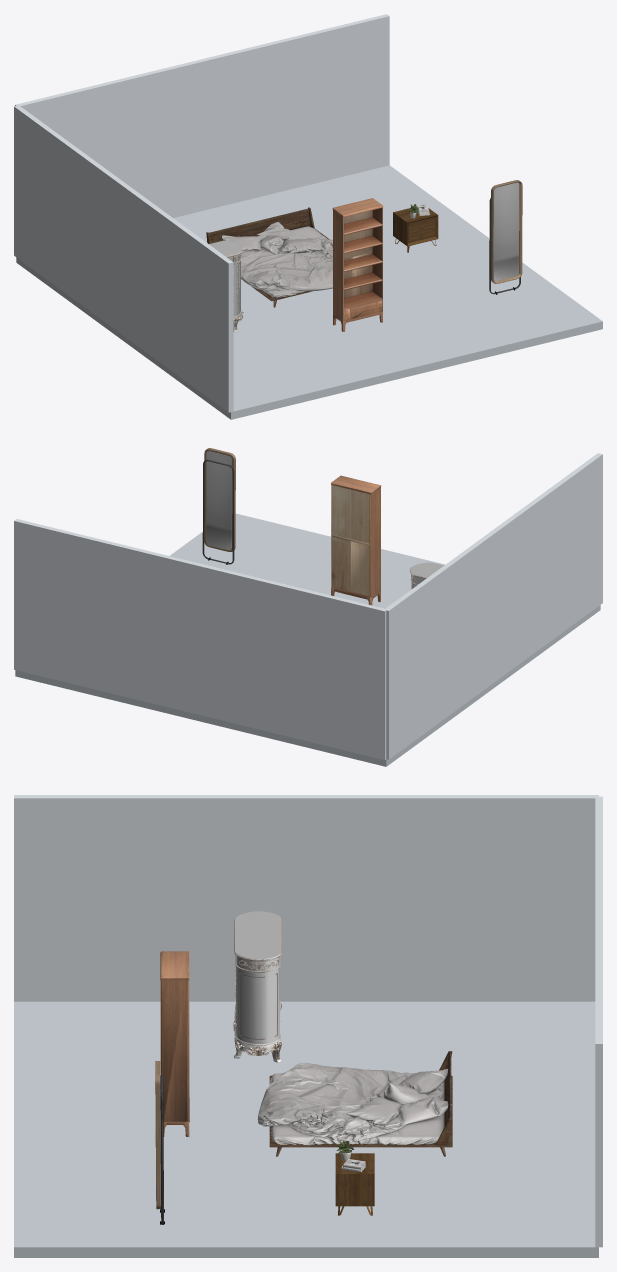
The model's file is stage3.glb.
3 renders of one model, top to bottom at view 1: azimuth 30°, elevation 25°; view 2: azimuth 150°, elevation 25°; view 3: azimuth 270°, elevation 25°, orthographic. The views are drawn at different scales.
Visible parts, largest first — view 1: wall_back, Floor, wall_left, raw_model, raw_model.003, raw_model.004, raw_model.001, raw_model.002; view 2: wall_back, wall_left, Floor, raw_model.003, raw_model.004, raw_model.002; view 3: Floor, wall_left, raw_model, raw_model.002, raw_model.003, wall_back, raw_model.001, raw_model.004.
Boxes of the visible parts, bbox=[...] form: wall_back: bbox=[15, 14, 389, 217]; Floor: bbox=[16, 165, 602, 419]; wall_left: bbox=[14, 106, 233, 412]; raw_model: bbox=[206, 207, 332, 307]; raw_model.003: bbox=[332, 198, 383, 331]; raw_model.004: bbox=[489, 180, 522, 294]; raw_model.001: bbox=[393, 204, 438, 252]; raw_model.002: bbox=[209, 240, 243, 332]; wall_back: bbox=[14, 519, 387, 759]; wall_left: bbox=[385, 453, 602, 759]; Floor: bbox=[15, 513, 600, 766]; raw_model.003: bbox=[331, 475, 381, 605]; raw_model.004: bbox=[202, 448, 235, 564]; raw_model.002: bbox=[409, 562, 443, 589]; Floor: bbox=[14, 1001, 598, 1257]; wall_left: bbox=[14, 795, 598, 1001]; raw_model: bbox=[257, 1051, 452, 1156]; raw_model.002: bbox=[233, 911, 281, 1062]; raw_model.003: bbox=[160, 951, 189, 1136]; wall_back: bbox=[595, 796, 602, 1247]; raw_model.001: bbox=[335, 1141, 374, 1215]; raw_model.004: bbox=[155, 1061, 164, 1224].
Bounding box in the file's own units: 6.04 × 2.42 × 6.04.
7 materials, 5 textured.
